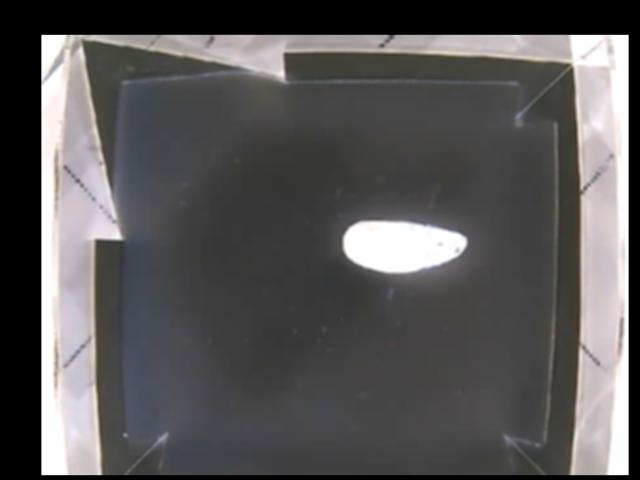Shell: (343, 220, 468, 273)
